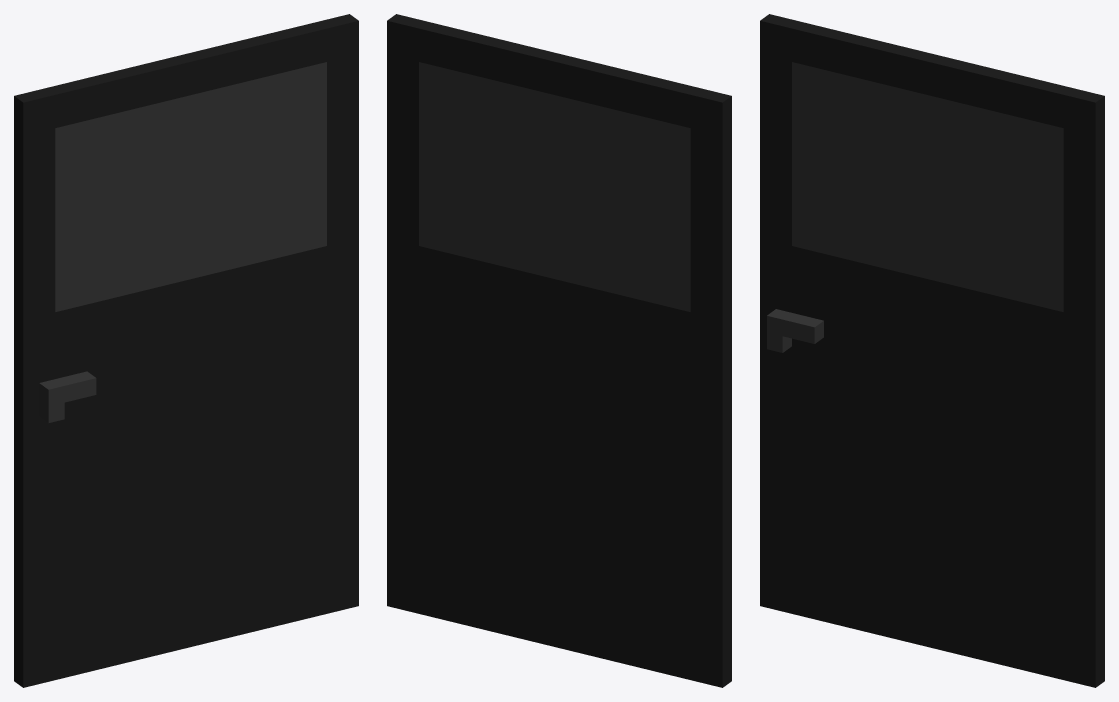
File: ConstructionMaterials-0.gltf
3 views of the same model, side by side, from view 1: azimuth 30°, elevation 25°; view 2: azimuth 150°, elevation 25°; view 3: azimuth 330°, elevation 25° (orthographic).
Parts seen in each view (by area): view 1: Node; view 2: Node; view 3: Node.
Part boxes in pixels (x1=…): Node: x1=14, y1=14, x2=358, y2=687; Node: x1=387, y1=14, x2=731, y2=687; Node: x1=760, y1=14, x2=1104, y2=687.
Bounding box in the file's own units: 2.1 × 3.5 × 0.2.
Materials: 1 (1 with a texture image).
